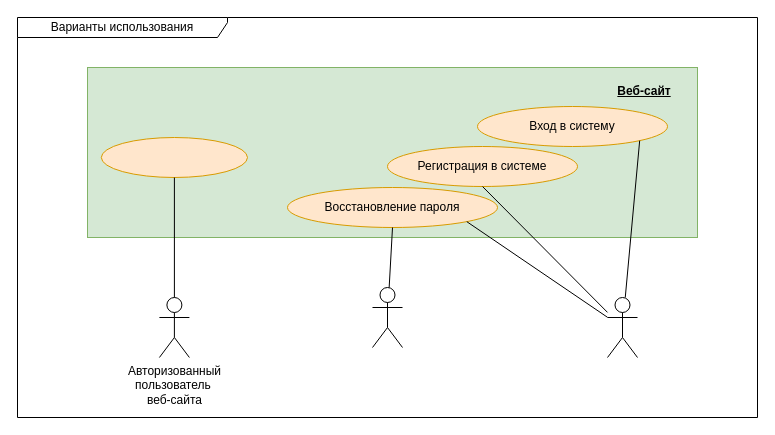
This 775x435 diagram has some shape labels left out. The centre of each missing label's shape, as x and y in pixels:
"Выход из системы" goes at (174,157).
"Неавторизованный пользователь веб-сайта" goes at (622,327).
"Почтовый сервер" goes at (387,317).
